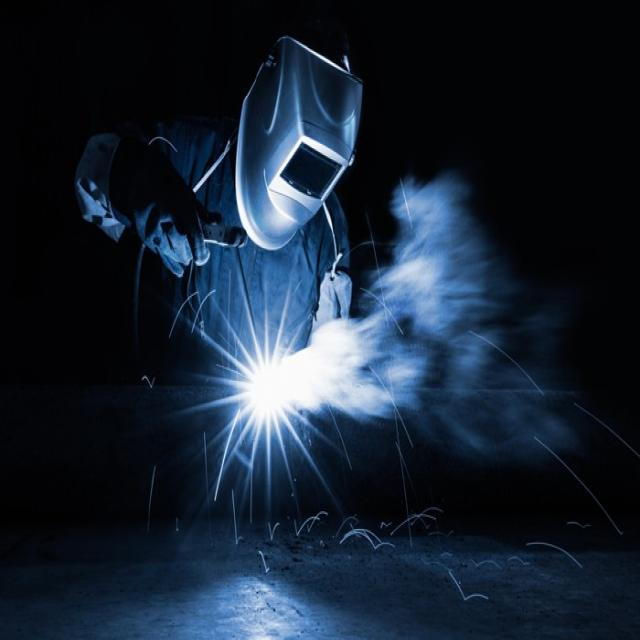welding: (248, 355, 294, 421)
